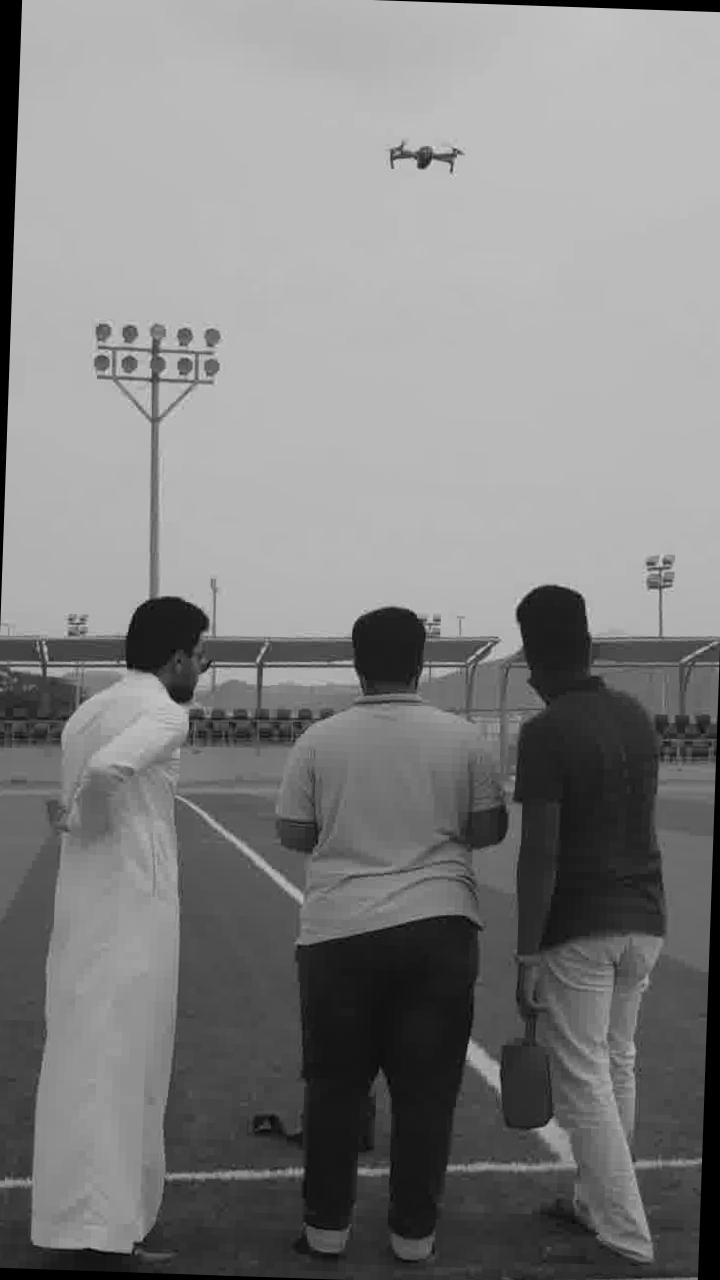drone: (374, 134, 472, 180)
